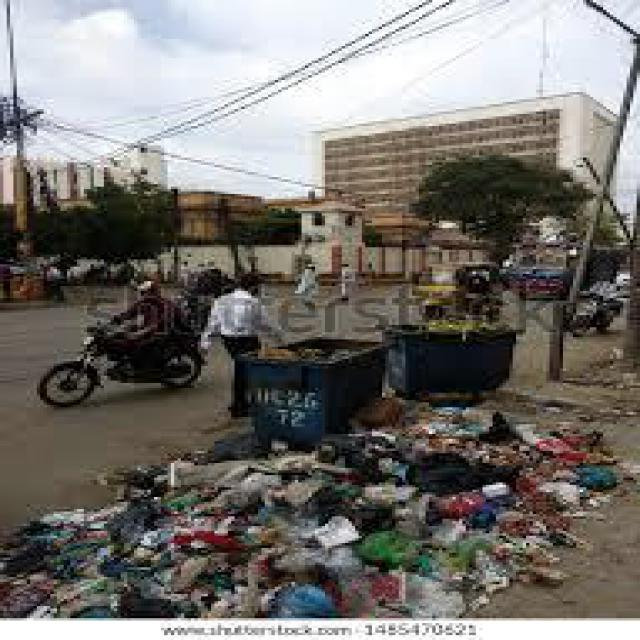garbage: (164, 446, 516, 618), (0, 506, 164, 620), (459, 407, 600, 502)
